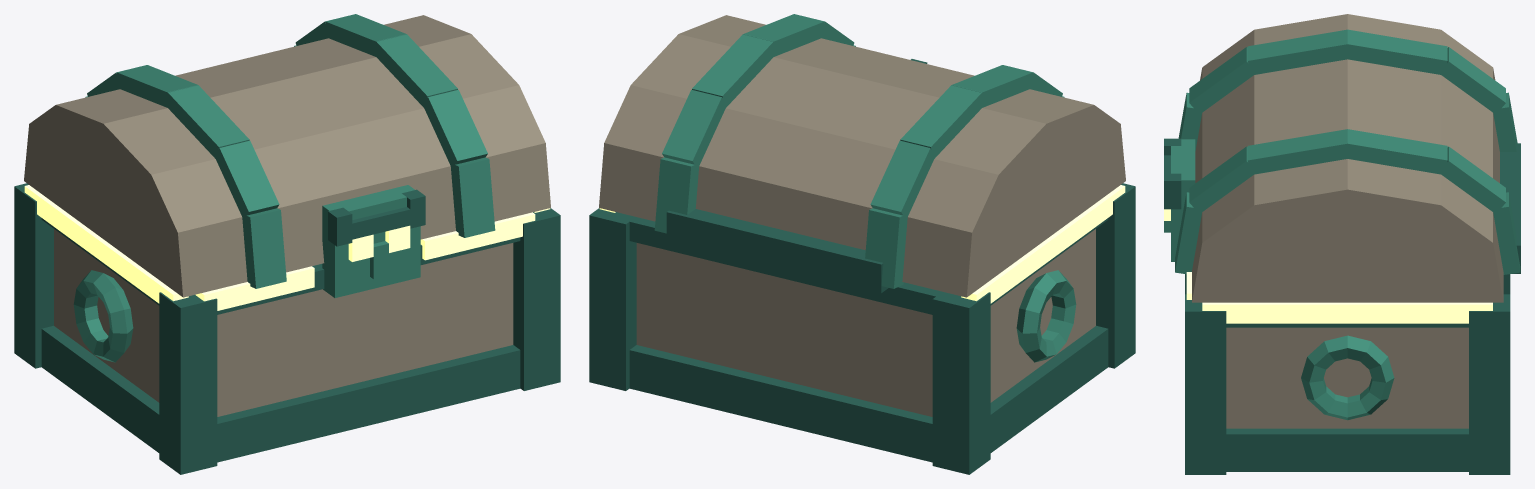
The model's file is treasure_chest.glb.
The picture shows the model from 3 angles, left to right: view 1: azimuth 30°, elevation 25°; view 2: azimuth 150°, elevation 25°; view 3: azimuth 270°, elevation 25°; orthographic projection. The views are drawn at different scales.
Parts seen in each view (by area): view 1: Lid, Body; view 2: Lid, Body; view 3: Lid, Body.
Boxes of the visible parts, x1,y1,x2,y2 form: Lid: (24,14,550,297); Body: (14,183,560,474); Lid: (599,14,1125,297); Body: (589,183,1135,474); Lid: (1164,14,1520,302); Body: (1185,272,1510,474).
Bounding box in the file's own units: 1.27 × 0.9485 × 1.03.
